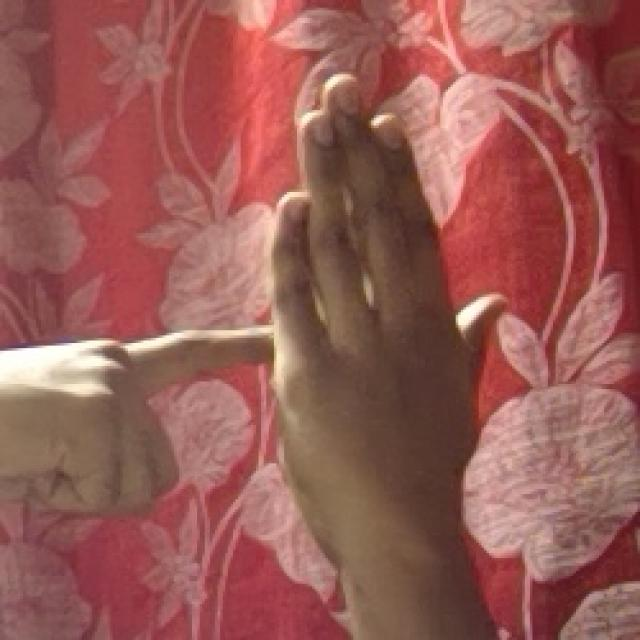Alphabet-R: (0, 58, 509, 550)
